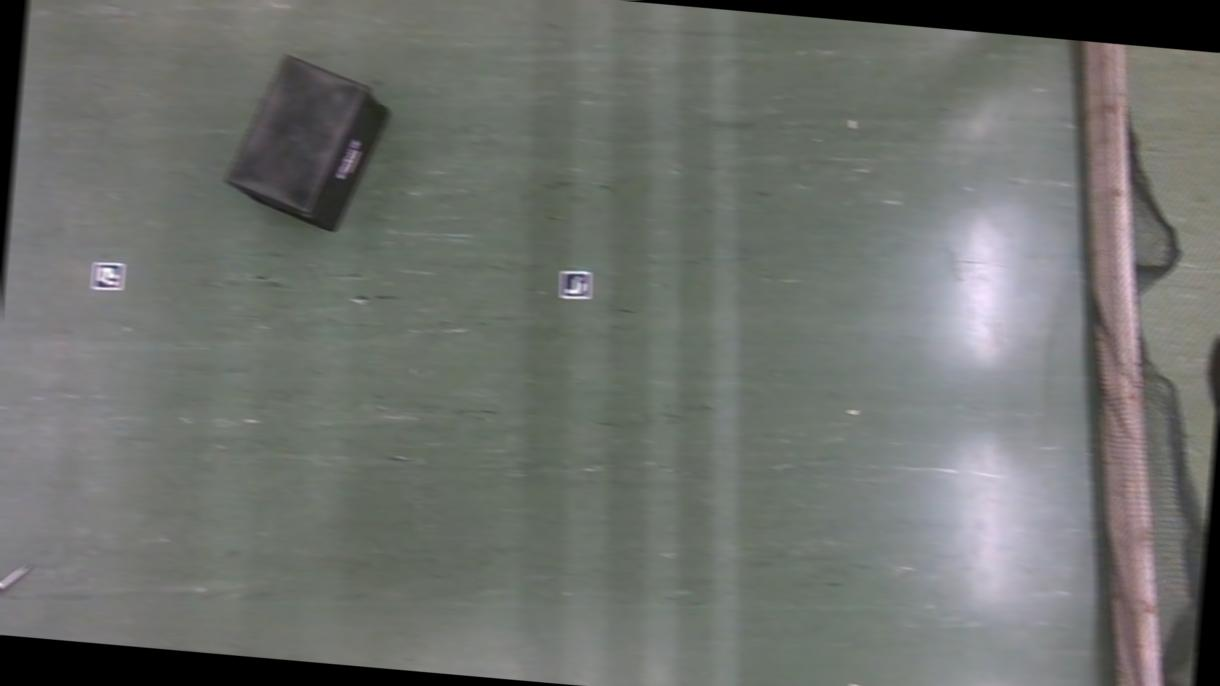probes: (0, 557, 31, 602)
rako: (218, 49, 394, 236)
